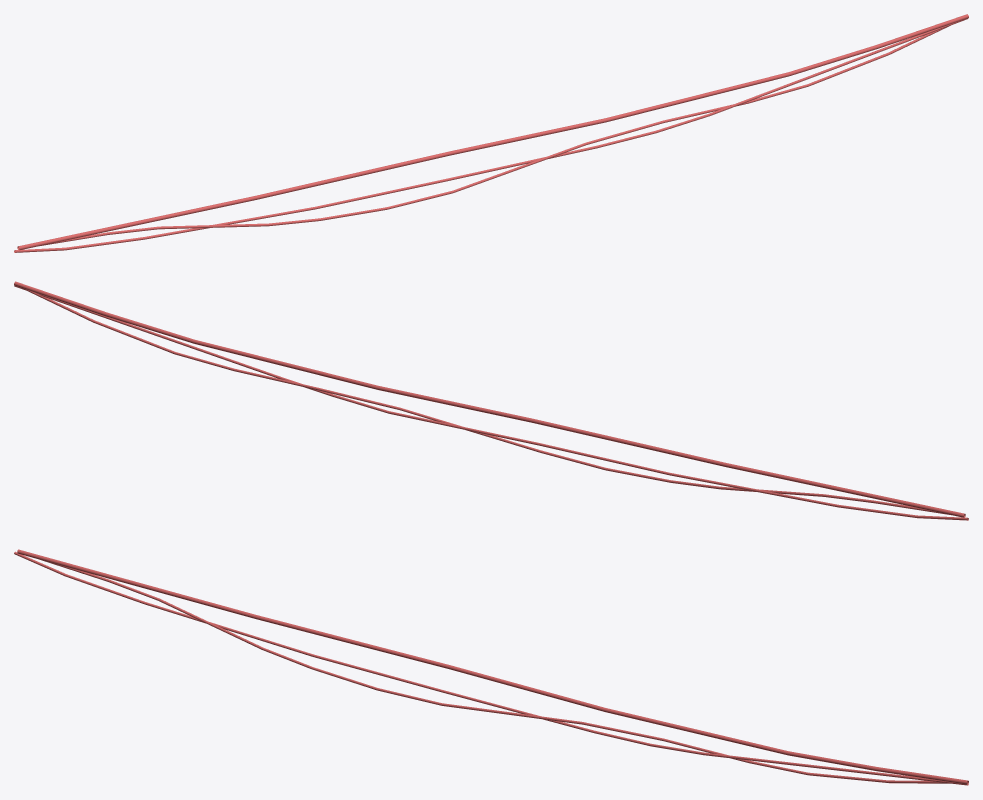
File: Wire_G_Snaps004.FBX
3 views of the same model, one above another, from view 1: azimuth 30°, elevation 25°; view 2: azimuth 150°, elevation 25°; view 3: azimuth 330°, elevation 25° (orthographic).
Parts seen in each view (by area): view 1: Geometry_Wire_G_LOD00; view 2: Geometry_Wire_G_LOD00; view 3: Geometry_Wire_G_LOD00.
Part boxes in pixels (x1,y1,x2,y2): Geometry_Wire_G_LOD00: (14, 14, 968, 252); Geometry_Wire_G_LOD00: (14, 281, 968, 520); Geometry_Wire_G_LOD00: (14, 549, 968, 785).
Size of what is drawn, in the model's own units: 368 by 18.26 by 4.76.
